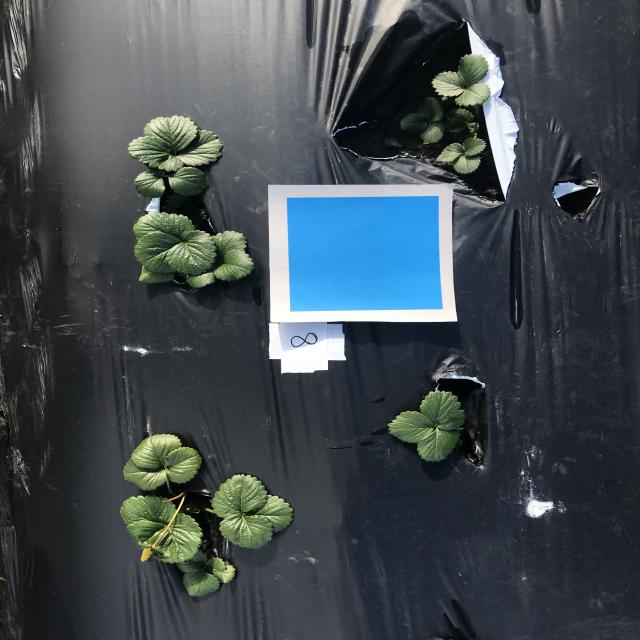ripe: (140, 546, 154, 563)
